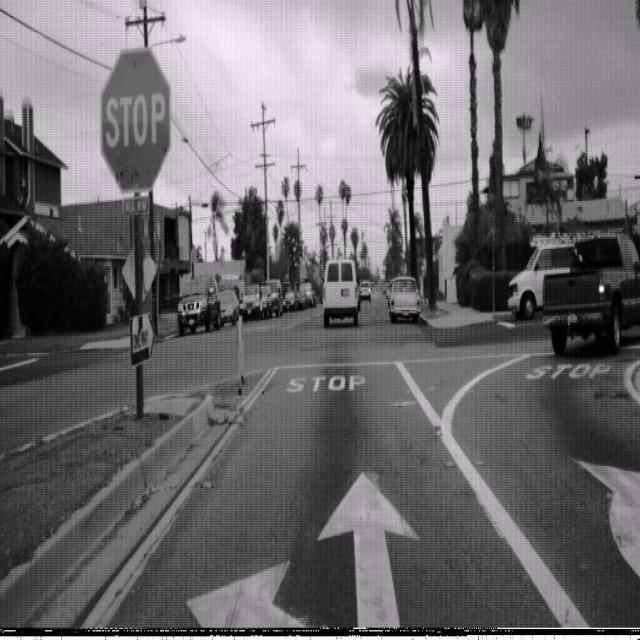stop_sign: (100, 45, 172, 194)
